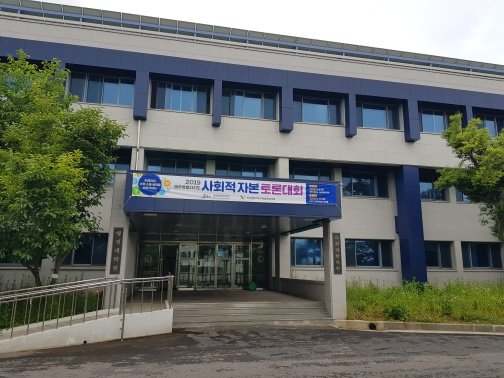College of Social Sciences: (41, 6, 502, 313), (93, 150, 369, 352), (128, 39, 430, 148)
